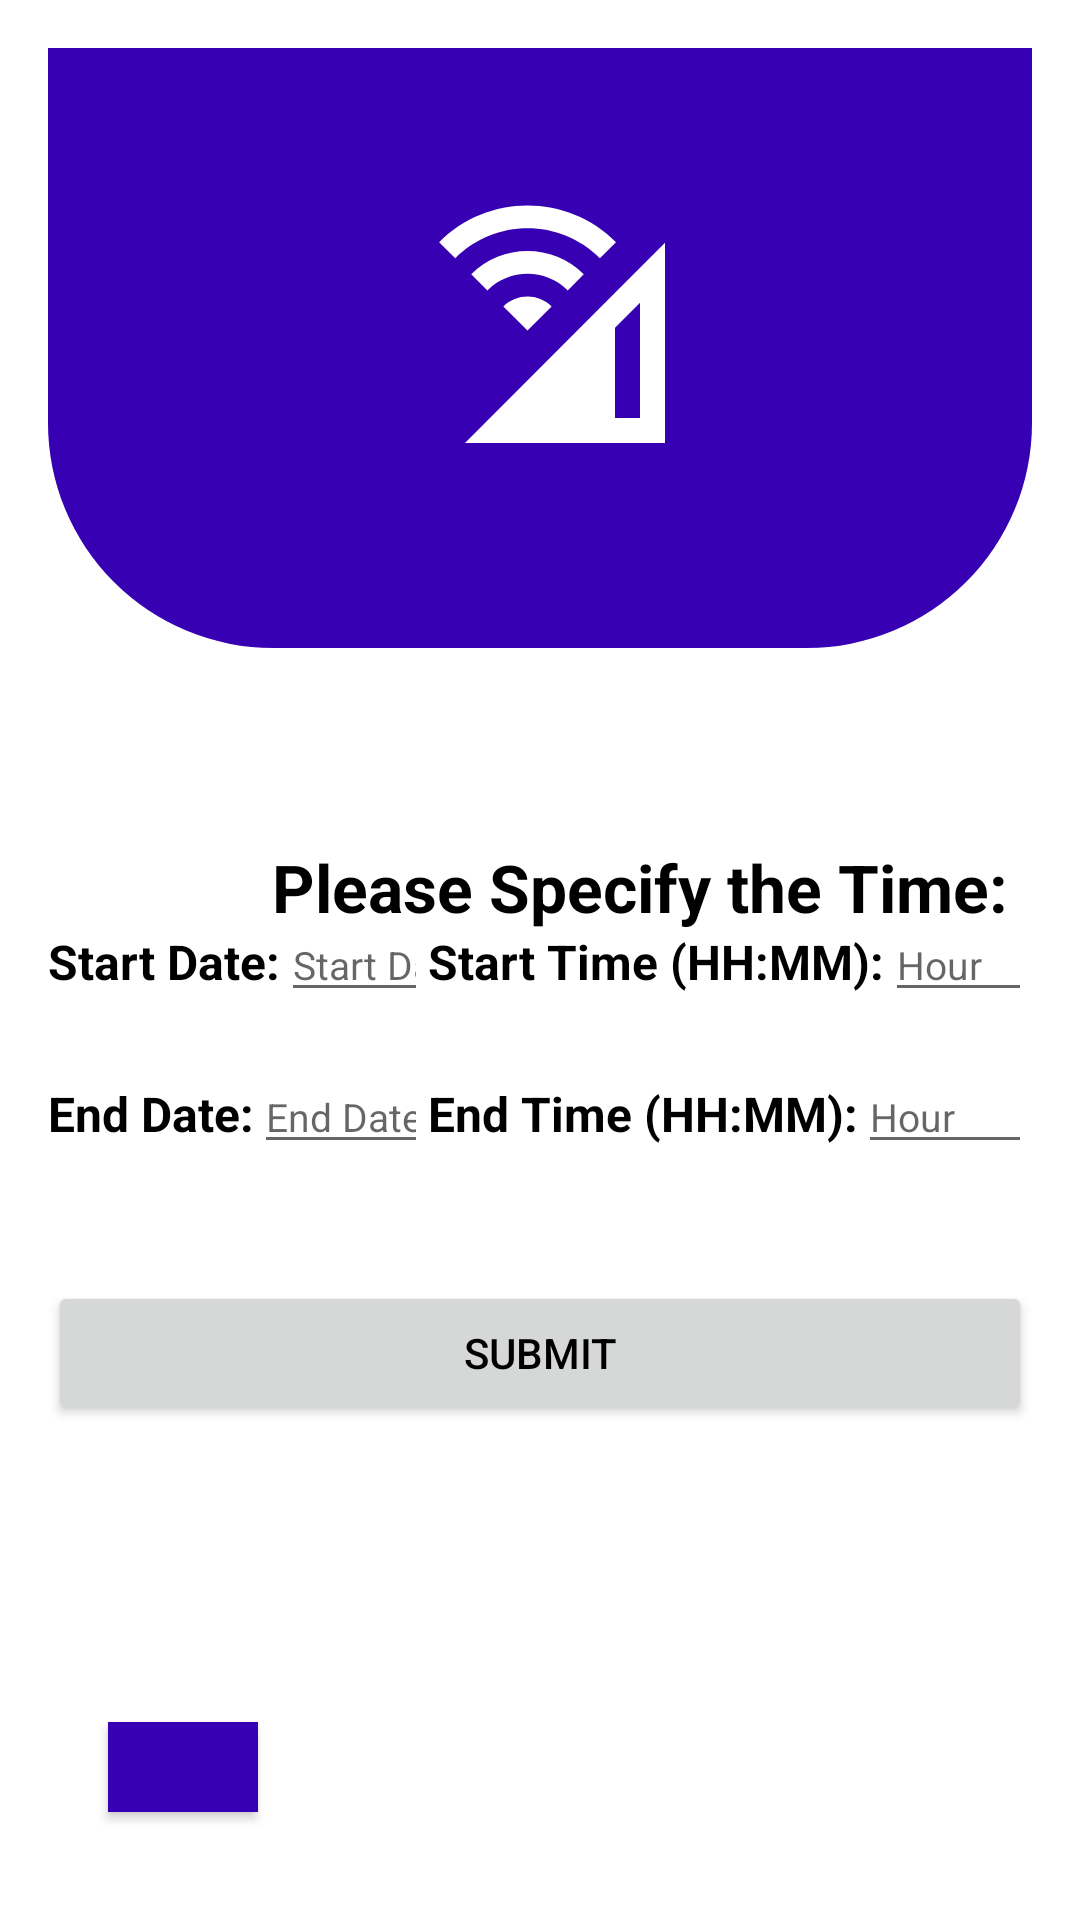

Named icons in this screenshot (1080*1920) and their centers, (x=x, y=y):
wifi: (x=552, y=324)
